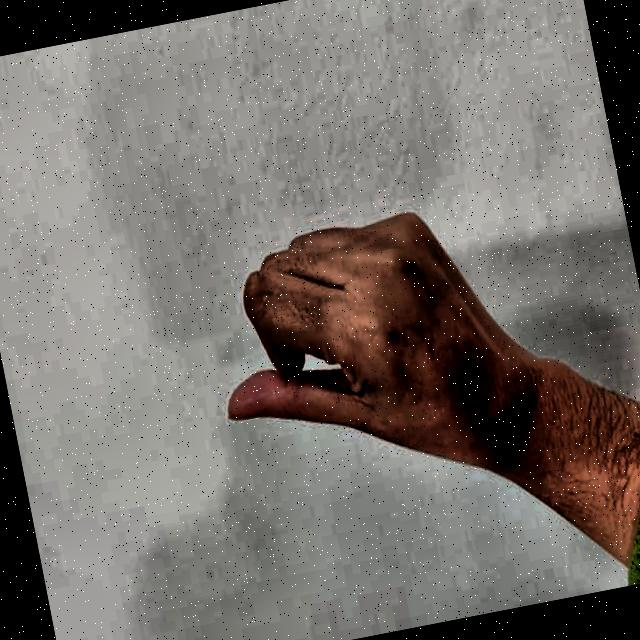Ay: (172, 160, 537, 570)
